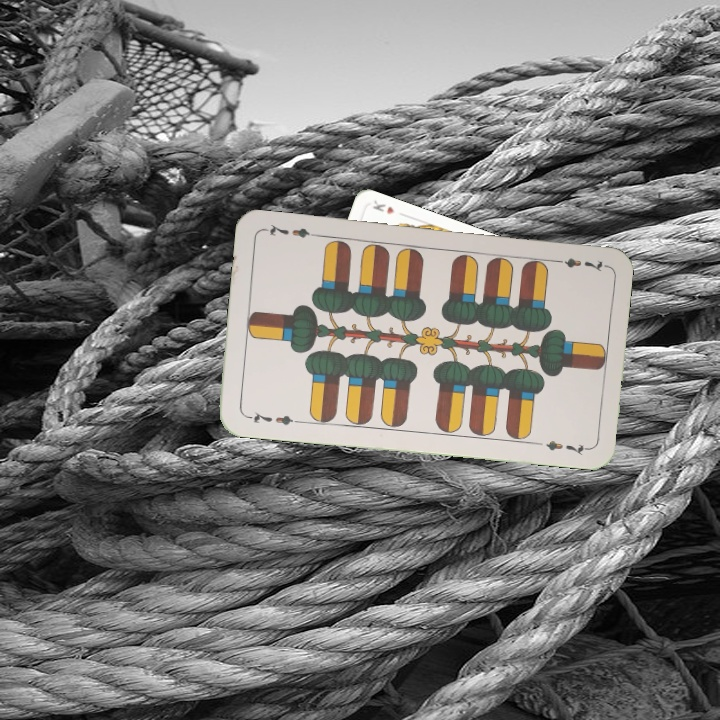E7: (548, 253, 607, 275), (242, 408, 301, 428)
